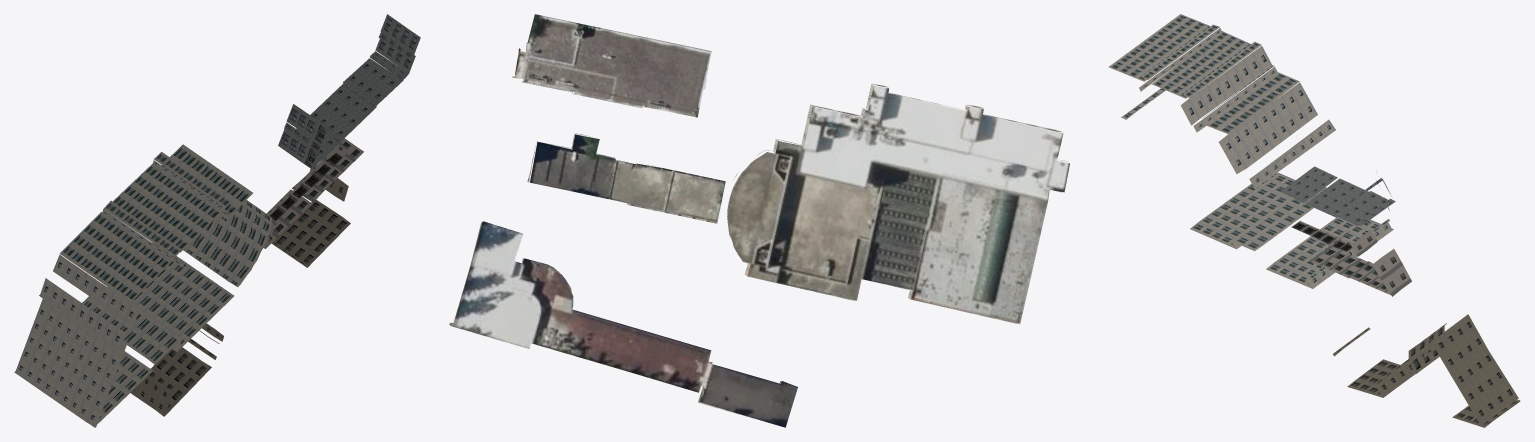
File: tile_LOD4_r13_c8.glb
3 renders of one model, left to right at view 1: azimuth 30°, elevation 25°; view 2: azimuth 150°, elevation 25°; view 3: azimuth 270°, elevation 25°, orthographic. The views are drawn at different scales.
Size of the model in its own units: 149 by 109 by 116.
20 materials, 20 textured.
